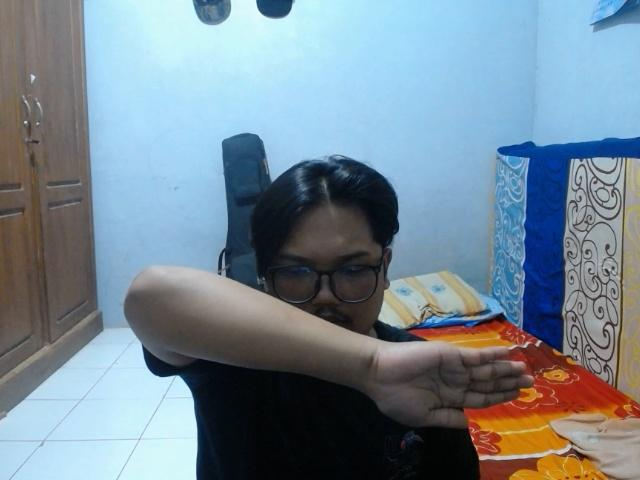Release: (358, 333, 539, 436)
